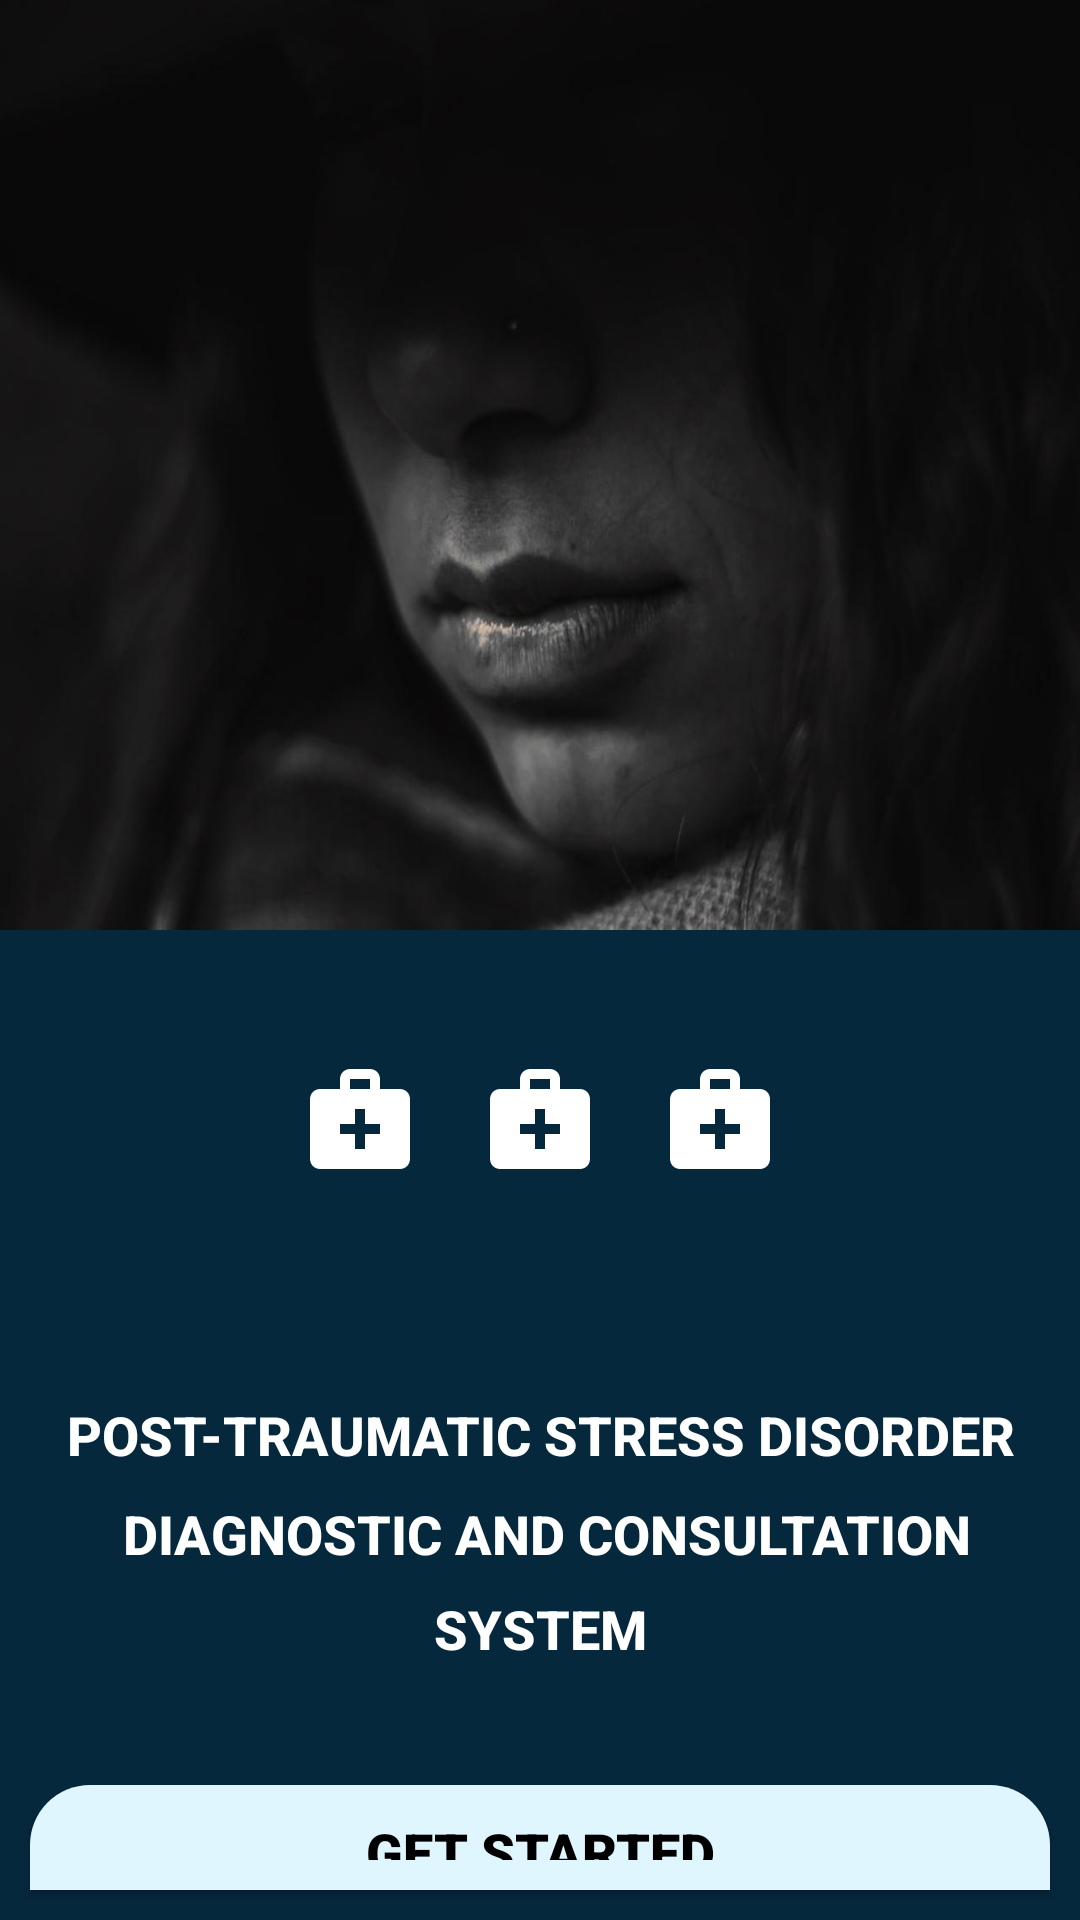

Screen size 1080px×1920px. Icon name, then its center in pixels as point (x, y):
medical services: point (360, 1119), point (540, 1119), point (720, 1119)
